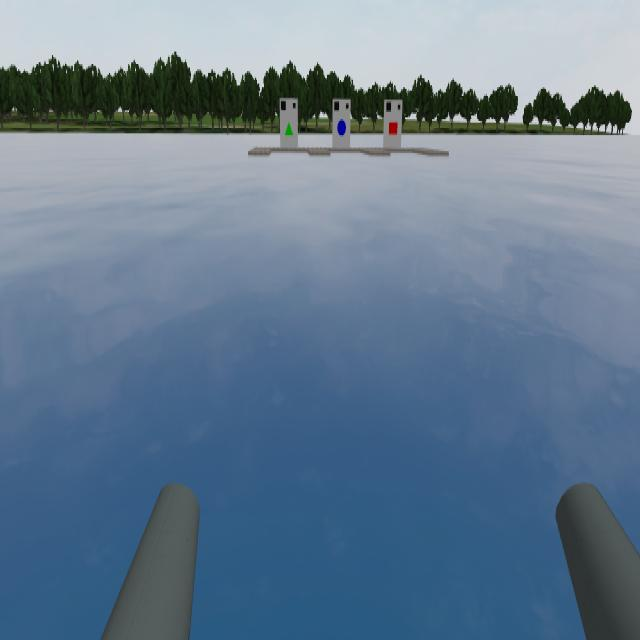dock: (332, 97, 353, 148), (280, 96, 298, 149), (384, 100, 402, 144)
